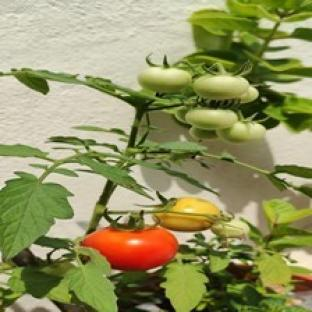Tomato: (83, 228, 178, 270), (155, 197, 221, 231), (138, 67, 192, 93), (194, 76, 249, 100), (186, 108, 238, 129), (216, 122, 266, 143), (211, 219, 249, 238), (41, 262, 75, 277), (239, 85, 259, 104), (190, 127, 217, 139), (175, 106, 189, 123)
